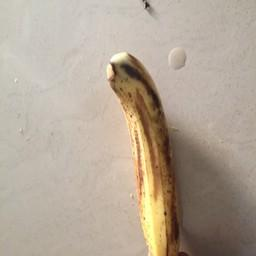Banana Ripe: (91, 43, 194, 256)
